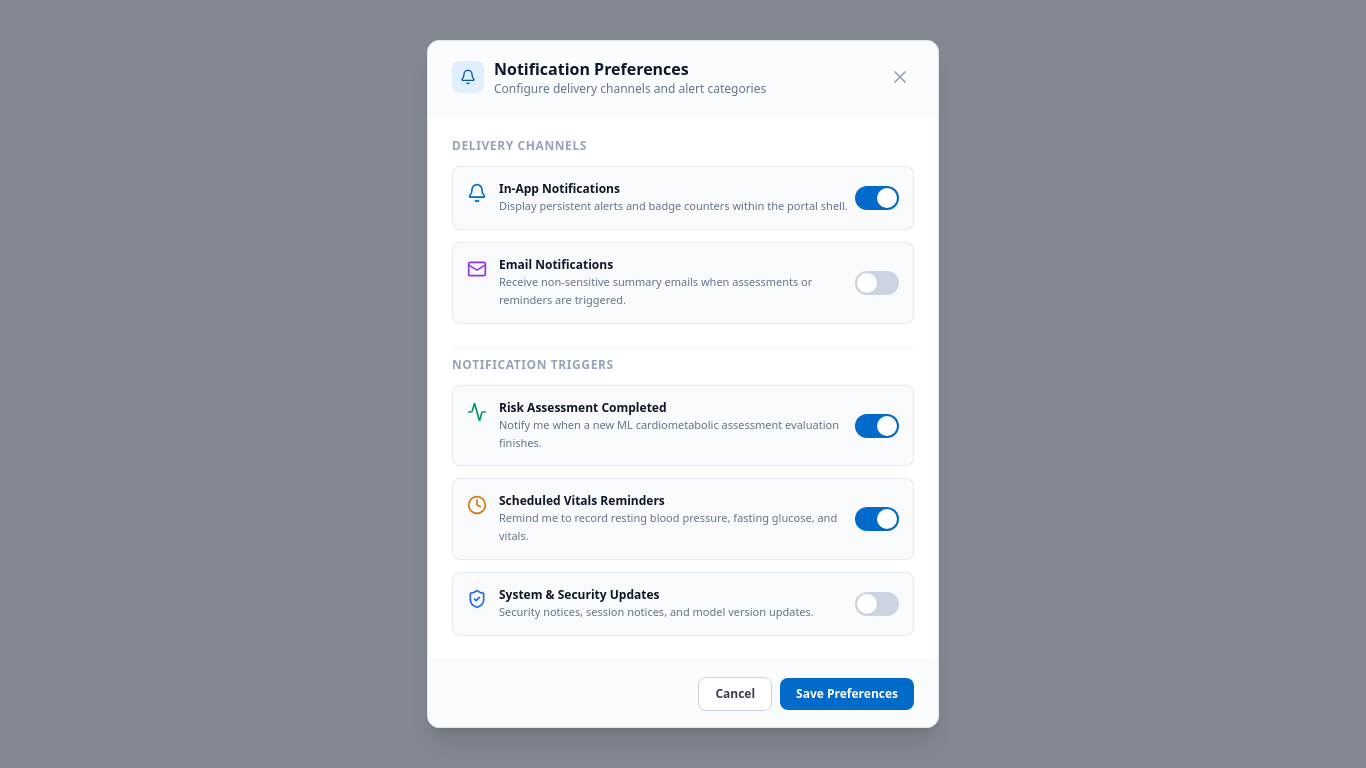
it: NotificationPreferencesModal › saves preferences and displays confirmation message
Click the switch in the row of "Email Notifications": (877, 283) [855, 271, 899, 295]
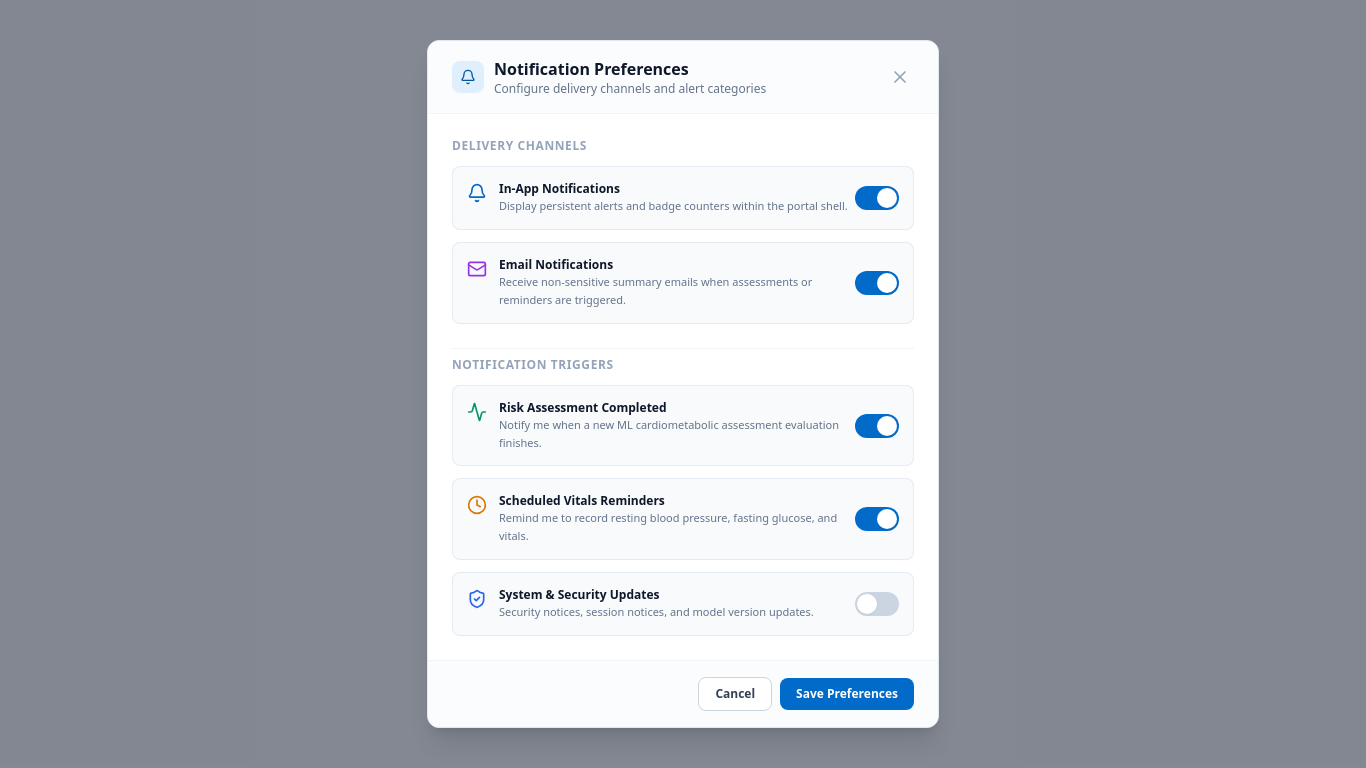
Click the button "Save Preferences": (847, 694) [780, 678, 914, 710]
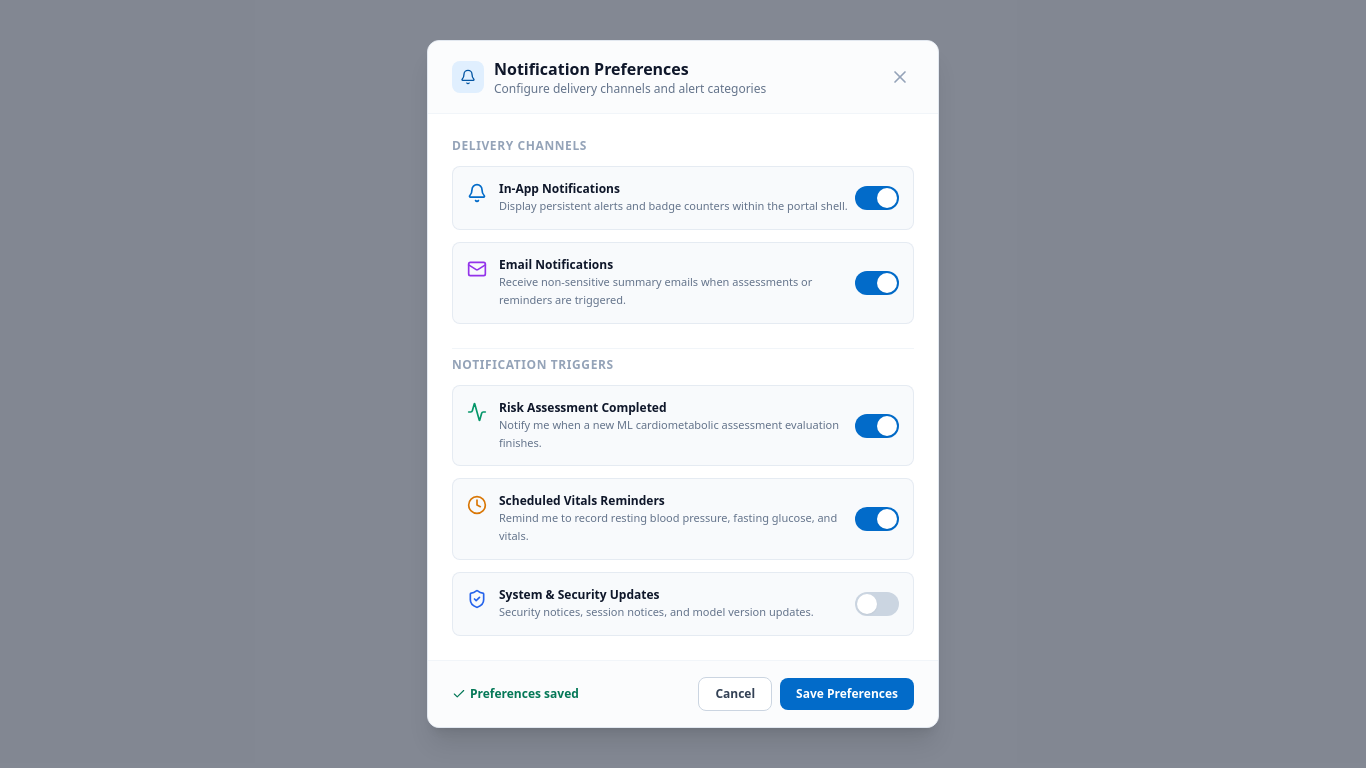
expect the text "Preferences saved" is shown: met, box [452, 686, 579, 702]
